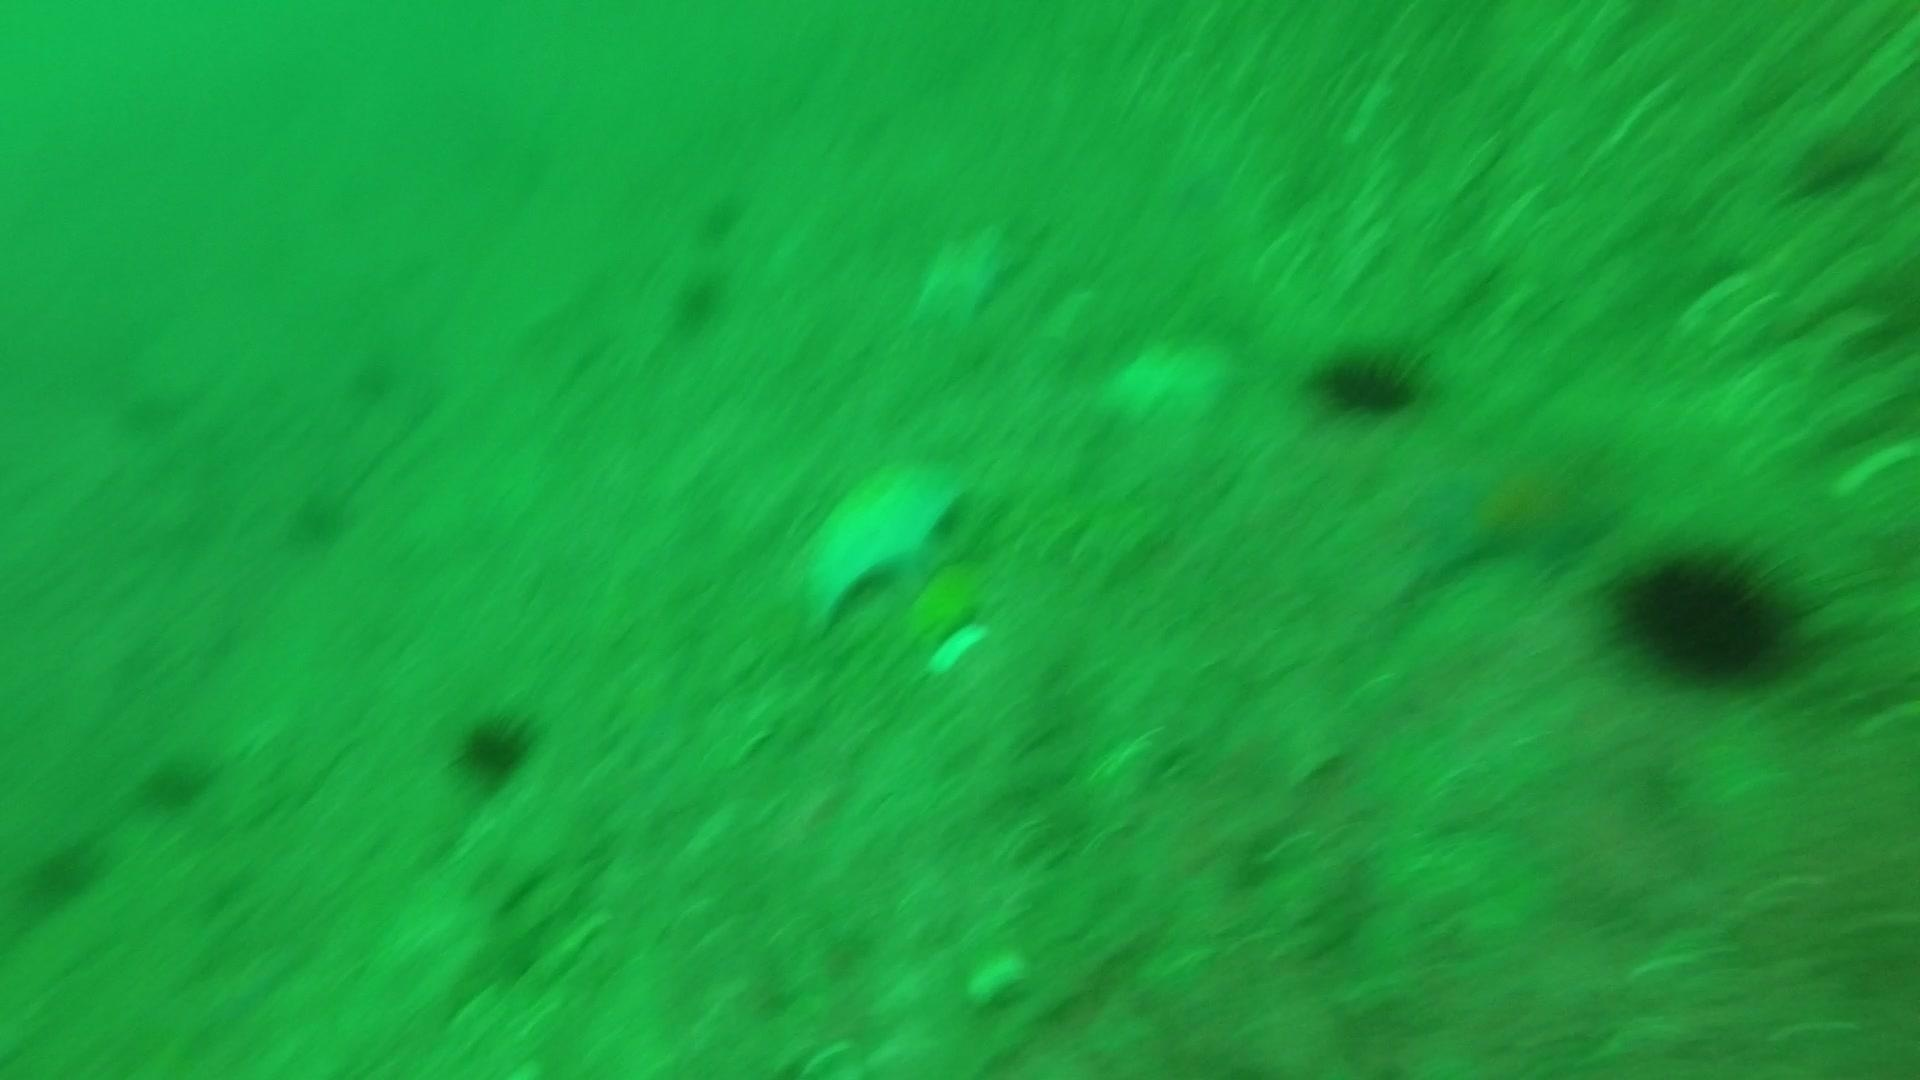echinus: (1607, 538, 1803, 688), (1308, 338, 1428, 423), (448, 705, 541, 790), (18, 832, 107, 913), (136, 745, 218, 814), (282, 483, 356, 553), (327, 342, 401, 411), (666, 269, 731, 335), (692, 189, 749, 244)
holothurian: (949, 473, 1178, 593)
starfish: (785, 452, 972, 632), (1408, 430, 1623, 583), (1092, 326, 1238, 434), (907, 218, 1026, 338)
